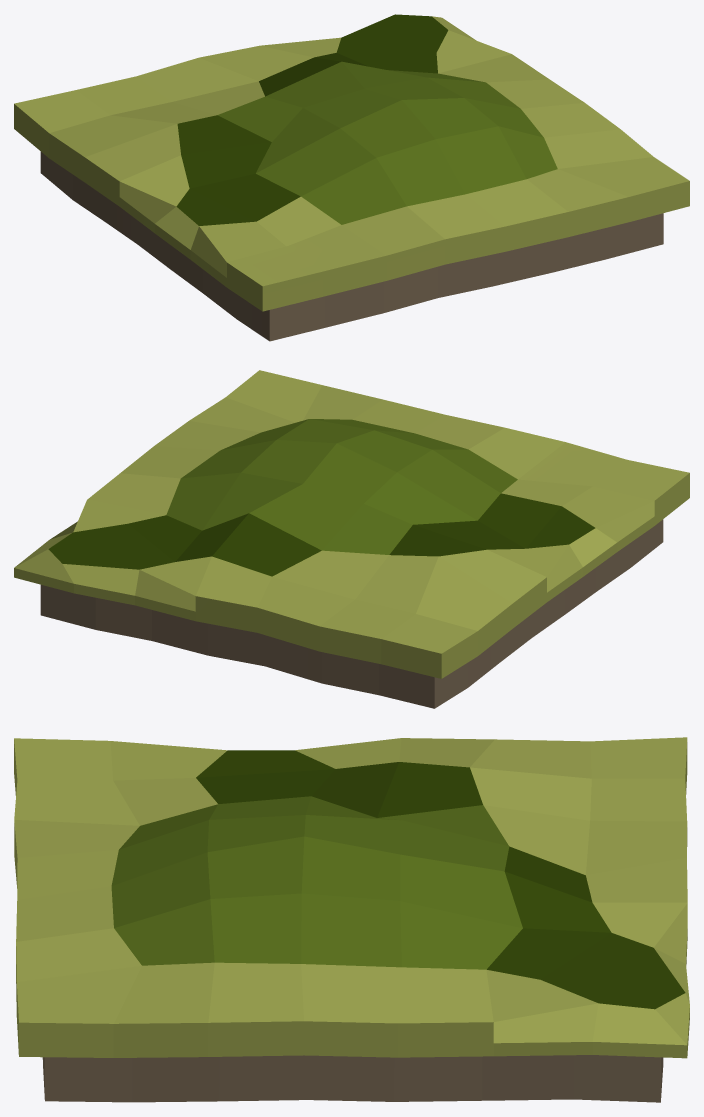
The model's file is ground.fbx.
3 renders of one model, top to bottom at view 1: azimuth 30°, elevation 25°; view 2: azimuth 150°, elevation 25°; view 3: azimuth 270°, elevation 25°, orthographic. The views are drawn at different scales.
Parts seen in each view (by area): view 1: Cylinder; view 2: Cylinder; view 3: Cylinder.
Boxes of the visible parts, bbox=[...] form: Cylinder: bbox=[14, 14, 689, 341]; Cylinder: bbox=[14, 370, 689, 708]; Cylinder: bbox=[14, 737, 689, 1102].
Size of the model in its own units: 402 by 105 by 403.
